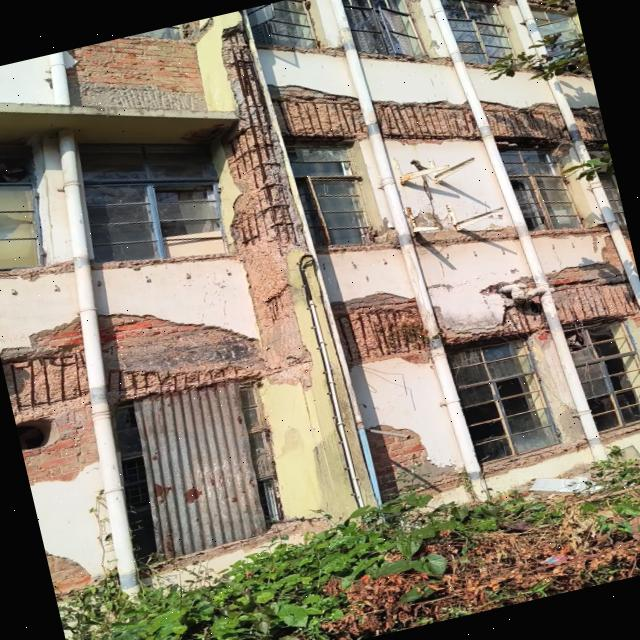peeling: (105, 325, 257, 372), (414, 226, 517, 248), (93, 254, 232, 270), (320, 231, 399, 253), (0, 261, 73, 281), (531, 224, 607, 239)
spalling: (216, 27, 356, 514), (68, 36, 206, 111), (107, 350, 262, 405), (332, 293, 427, 364), (366, 424, 455, 499), (1, 350, 90, 423), (22, 403, 97, 485), (273, 86, 366, 143), (445, 301, 546, 346), (374, 101, 478, 140), (546, 238, 625, 286), (552, 283, 636, 325), (484, 102, 564, 146), (100, 315, 203, 345), (46, 551, 91, 594), (35, 323, 82, 348), (583, 114, 601, 135)
